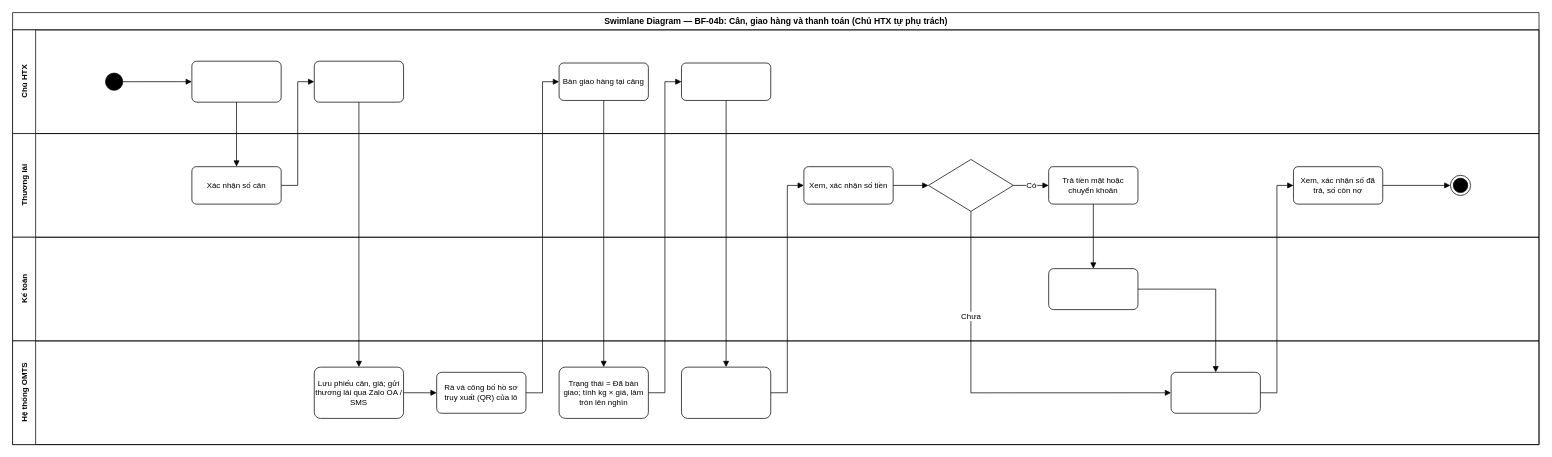
The diagram is 1552 pixels wide and 457 high, and some of its shapes have lost their labels. The shapes that lost their labels are listed below. From the top down, each one's centre as x and y in pixels, then its label:
the point at 236,81: Cân chung toàn bộ hàng cùng thương lái
the point at 359,81: Thống nhất giá thị trường với thương lái
the point at 726,81: Xác nhận số tiền cuối
the point at 970,185: Trả tiền ngay?
the point at 1093,289: Ghi tiền thực nhận, phân bổ vào giao dịch
the point at 726,392: Đơn = Đã chốt bán; tạo biên nhận, VietQR; gửi thương lái
the point at 1215,392: Cập nhật công nợ; gửi biên nhận qua Zalo OA / SMS
